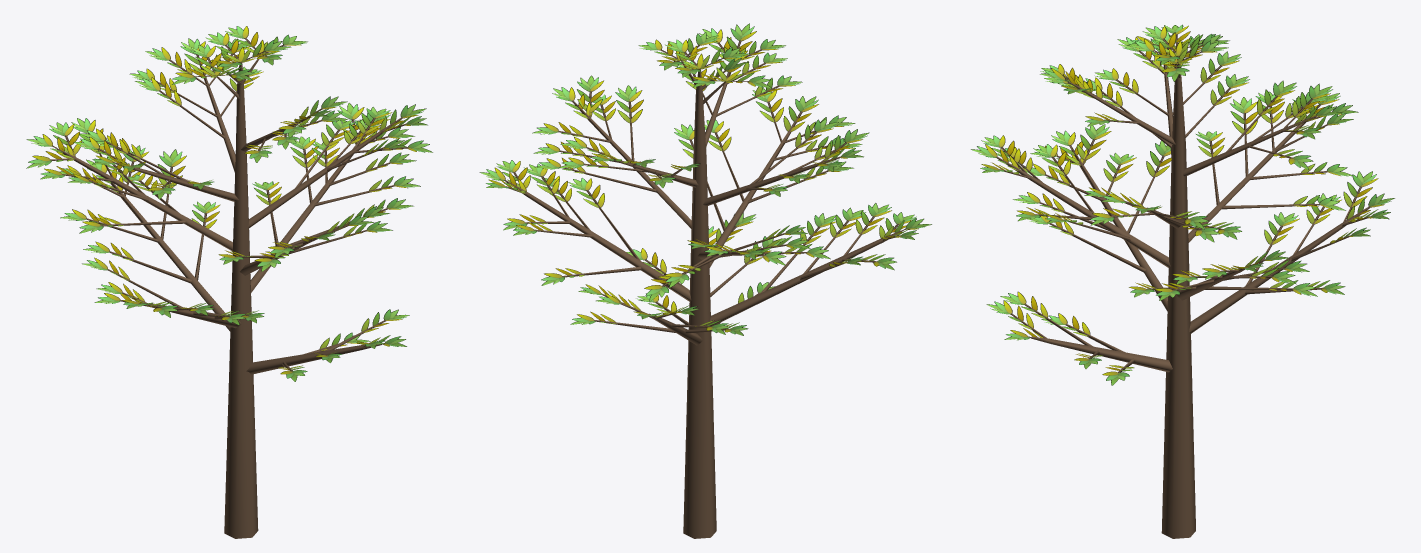
The model's file is test_tree.gltf.
3 views of the same model, side by side, from view 1: azimuth 30°, elevation 25°; view 2: azimuth 150°, elevation 25°; view 3: azimuth 270°, elevation 25° (orthographic). The views are drawn at different scales.
Parts seen in each view (by area): view 1: leaves, bark; view 2: leaves, bark; view 3: leaves, bark.
Boxes of the visible parts, x1,y1,x2,y2 form: leaves: (26, 26, 432, 381); bark: (50, 54, 408, 538); leaves: (479, 23, 931, 335); bark: (505, 42, 902, 538); leaves: (971, 24, 1394, 385); bark: (996, 47, 1370, 538).
Bounding box in the file's own units: 5.23 × 6.28 × 5.08.
Materials: 2 (1 with a texture image).
